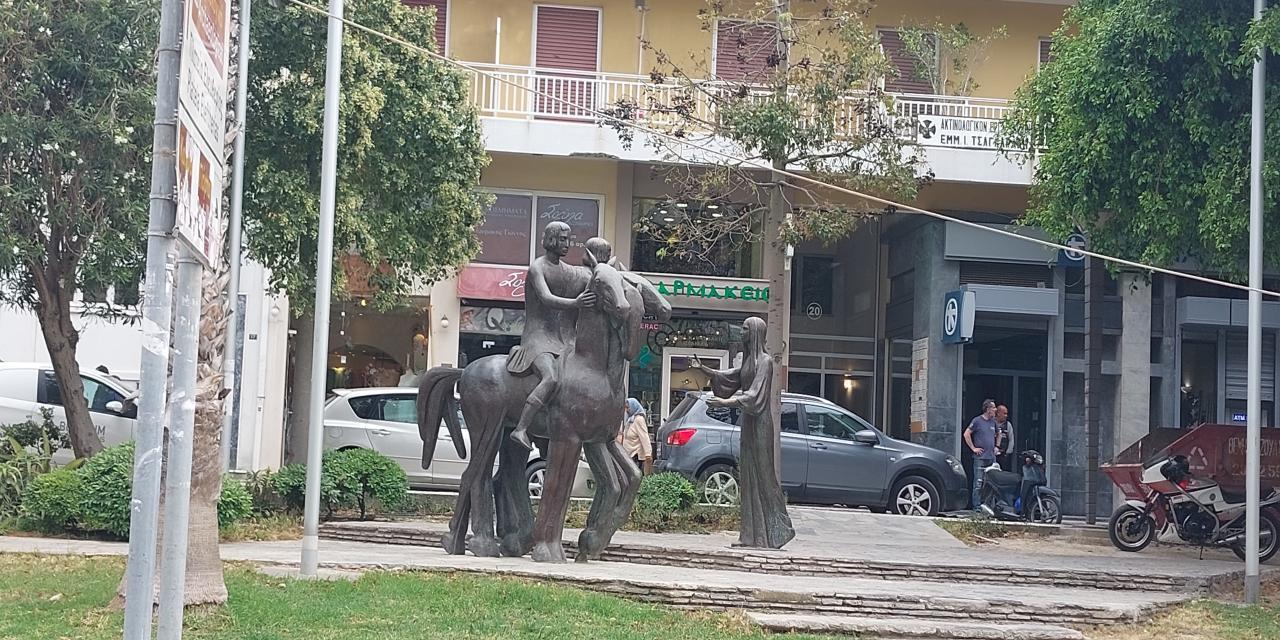Aretousa: (418, 220, 798, 566)
